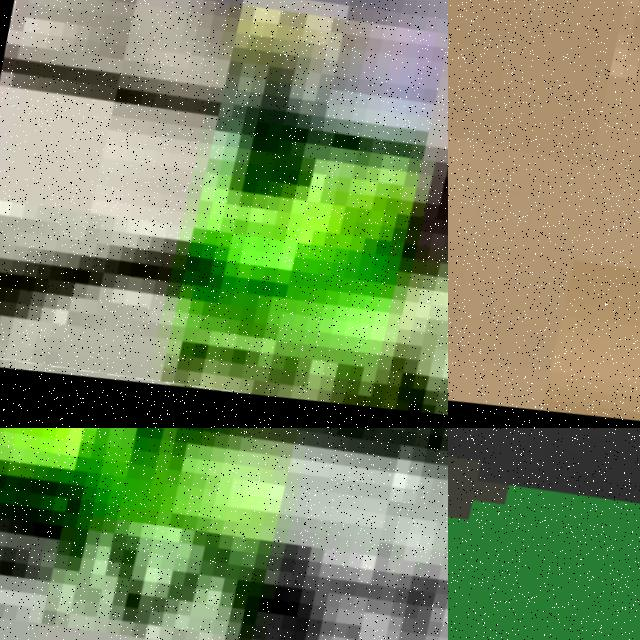drone: (0, 0, 448, 428), (0, 428, 448, 640), (448, 80, 640, 428), (448, 428, 640, 640)
